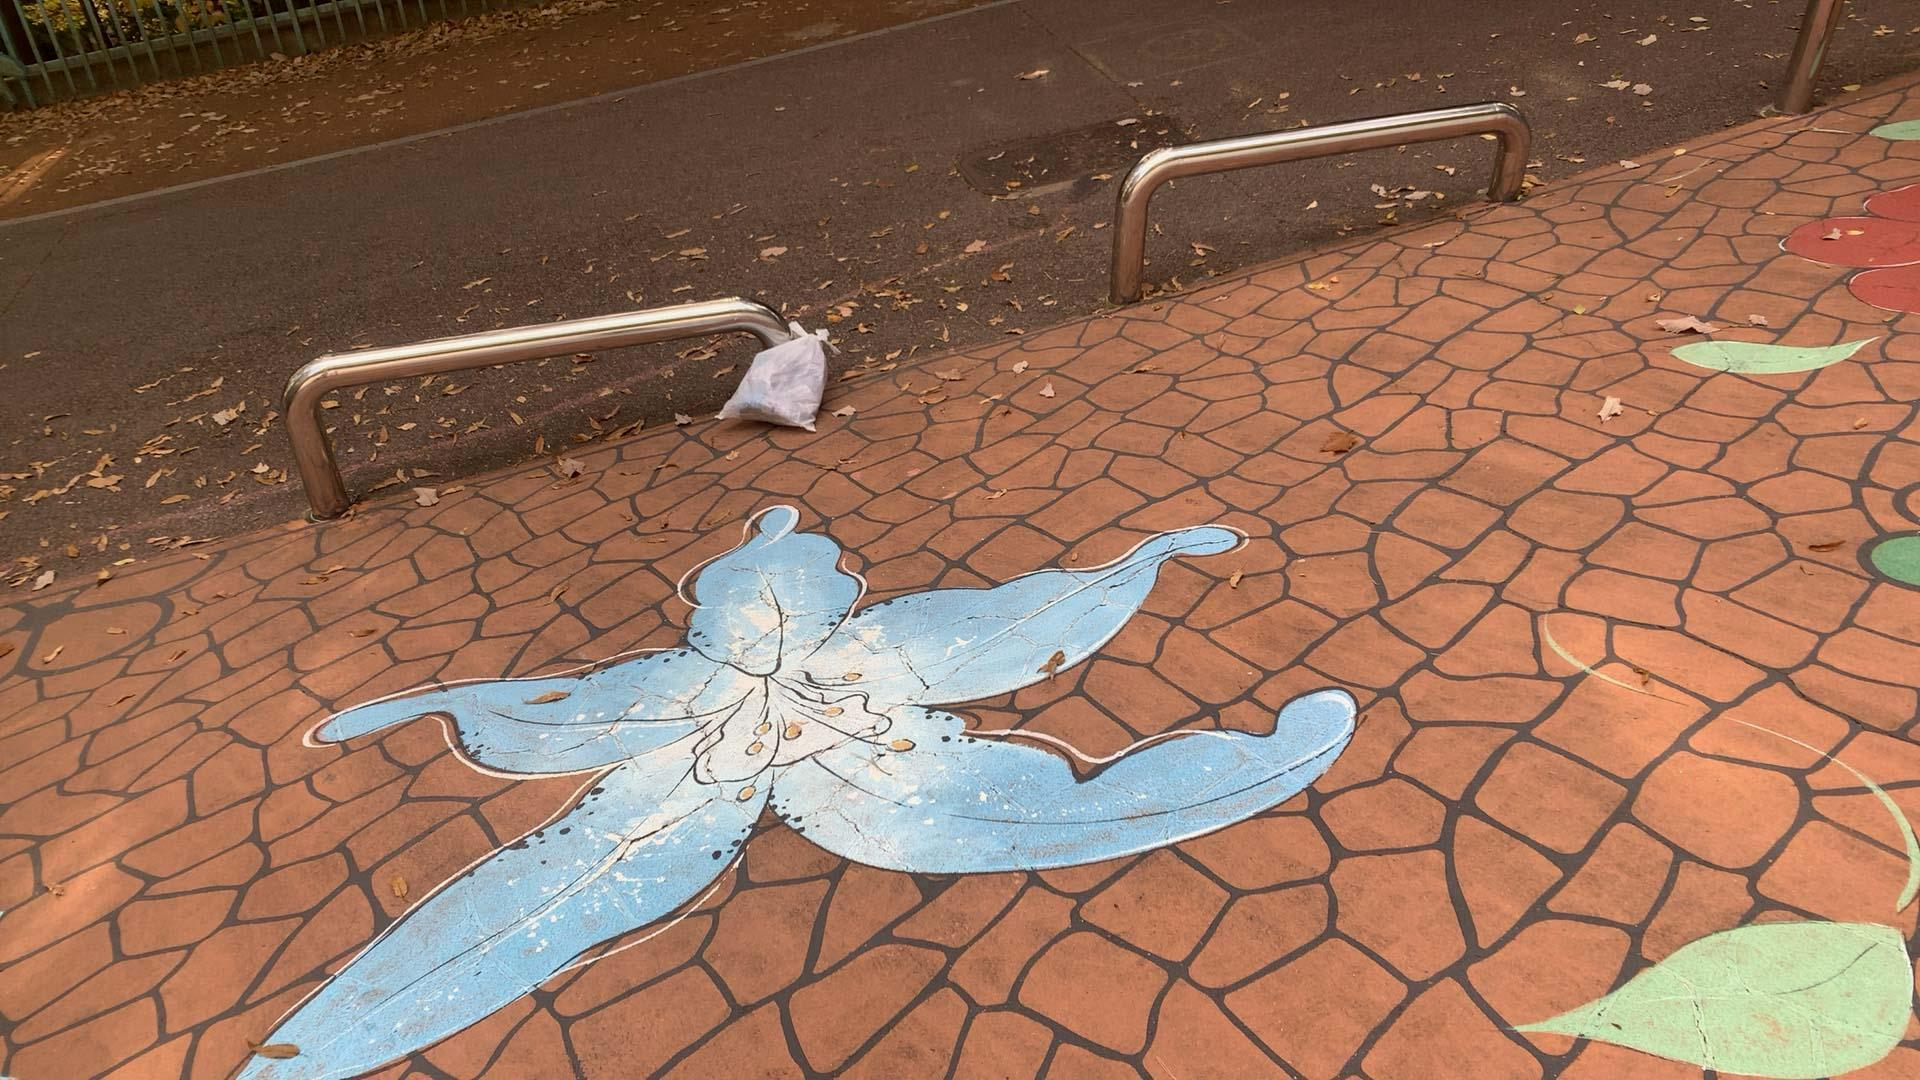white_bag: (707, 310, 836, 438)
